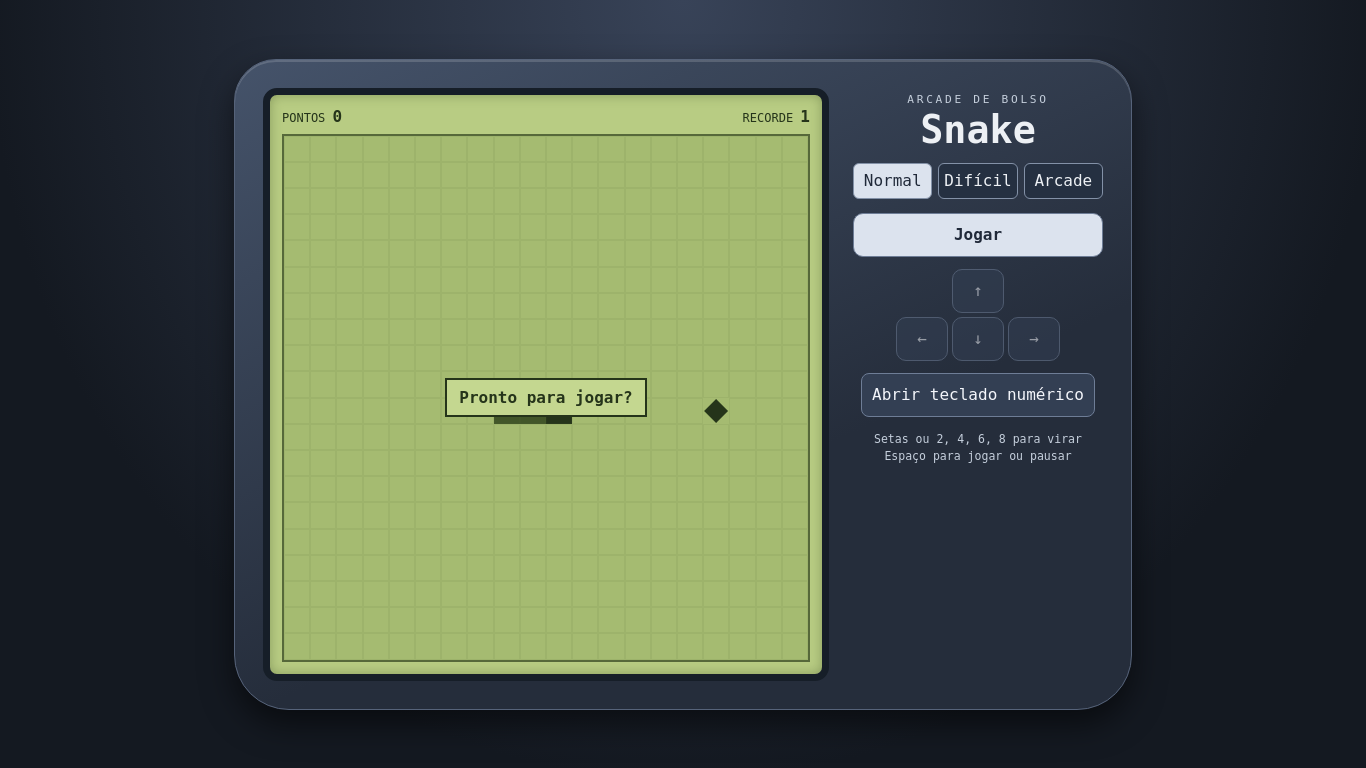
it: wraps through the right edge in normal mode
Click the button "Jogar" at (978, 235), box 853,213 -> 1103,257
Wait 1730 ms
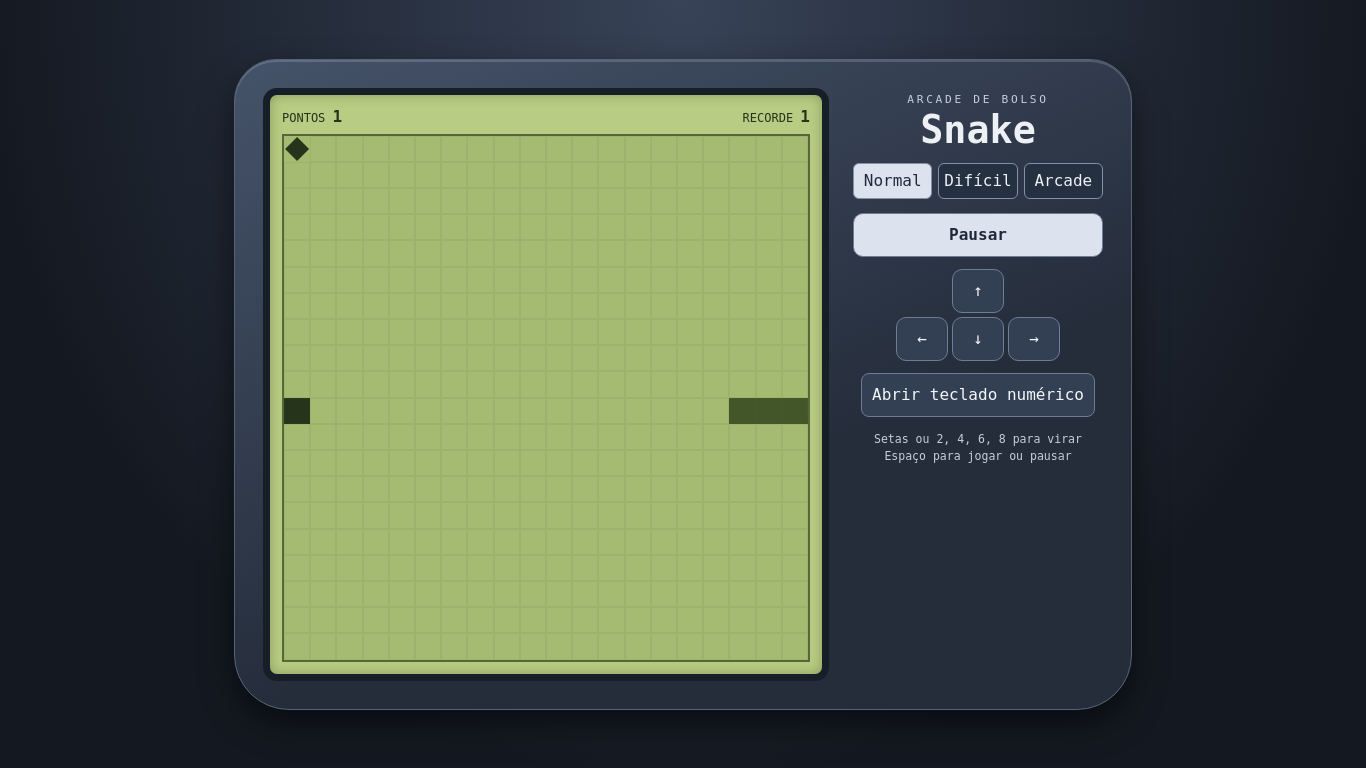
Check: the button "Pausar" is shown, box 853,213 -> 1103,257
